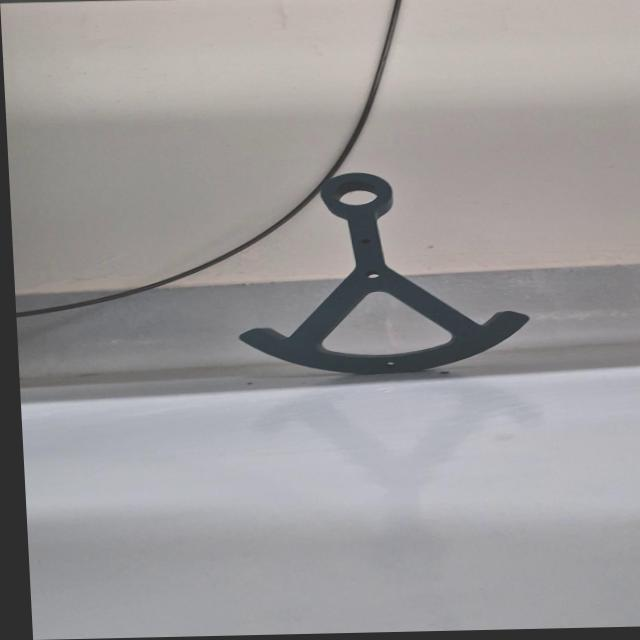haptic: (229, 169, 534, 377)
